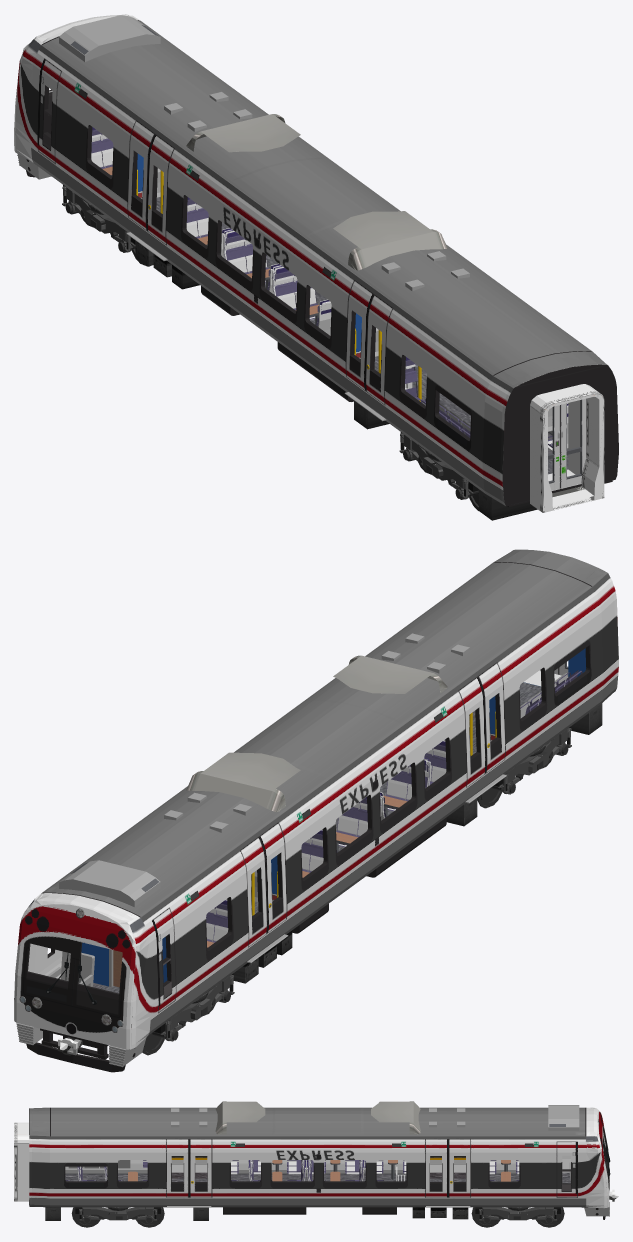
File: module_express_back.obj
3 views of the same model, one above another, from view 1: azimuth 30°, elevation 25°; view 2: azimuth 150°, elevation 25°; view 3: azimuth 270°, elevation 25° (orthographic). The views are drawn at different scales.
Visible parts, largest first — view 1: side, jibung, aircon, mak, backout, interiors, oscarchair, door_LB_rear, door_LF_rear, habu, dt71, floor (+1 smaller); view 2: side, jibung, front, aircon, dt71, oscarchair, door_LB_rear, door_LF_rear, habu, interiors, driverwall, wiper (+3 smaller); view 3: side, jibung, aircon, dt71, door_RF_rear, door_RB_rear, floor, habu, oscarchair, heater, mak, interiors (+6 smaller).
Part boxes in pixels (bbox=[...]): side: bbox=[14, 15, 618, 506]; jibung: bbox=[34, 14, 607, 388]; aircon: bbox=[59, 15, 469, 291]; mak: bbox=[530, 384, 604, 512]; backout: bbox=[506, 364, 614, 505]; interiors: bbox=[47, 92, 586, 490]; oscarchair: bbox=[91, 127, 378, 356]; door_LB_rear: bbox=[146, 150, 386, 417]; door_LF_rear: bbox=[128, 136, 367, 404]; habu: bbox=[135, 240, 612, 520]; dt71: bbox=[62, 185, 478, 510]; floor: bbox=[156, 197, 568, 474]; side: bbox=[14, 551, 618, 1048]; jibung: bbox=[28, 549, 607, 932]; front: bbox=[14, 904, 136, 1049]; aircon: bbox=[59, 633, 469, 906]; dt71: bbox=[142, 726, 571, 1055]; oscarchair: bbox=[206, 739, 446, 947]; door_LB_rear: bbox=[265, 679, 504, 946]; door_LF_rear: bbox=[246, 693, 486, 960]; habu: bbox=[129, 703, 602, 1049]; interiors: bbox=[47, 662, 582, 986]; driverwall: bbox=[81, 937, 167, 987]; wiper: bbox=[25, 952, 125, 1072]; side: bbox=[29, 1107, 607, 1208]; jibung: bbox=[29, 1107, 600, 1140]; aircon: bbox=[171, 1101, 579, 1134]; dt71: bbox=[71, 1207, 564, 1227]; door_RF_rear: bbox=[189, 1149, 470, 1205]; door_RB_rear: bbox=[167, 1149, 448, 1205]; floor: bbox=[65, 1172, 570, 1183]; habu: bbox=[29, 1200, 587, 1220]; oscarchair: bbox=[231, 1160, 519, 1181]; heater: bbox=[65, 1163, 516, 1174]; mak: bbox=[14, 1122, 29, 1201]; interiors: bbox=[65, 1148, 605, 1181].
Size of the model in its own units: 2.88 by 3.97 by 20.41.
37 materials, 36 textured.
